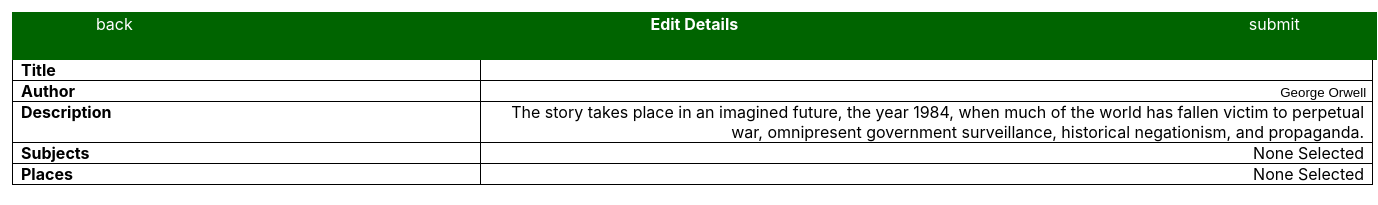
Test: The Edit component › the edit mode › Should change view to PropertyEdit when clicking the Subjects
Click the element showing "Subjects None Selected": click(693, 154) [12, 143, 1373, 164]
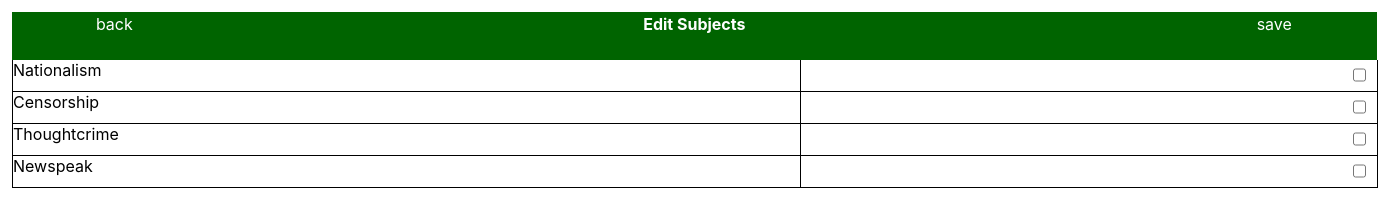
Expected: the text "Edit Subjects" is shown, [643, 14, 746, 34]
